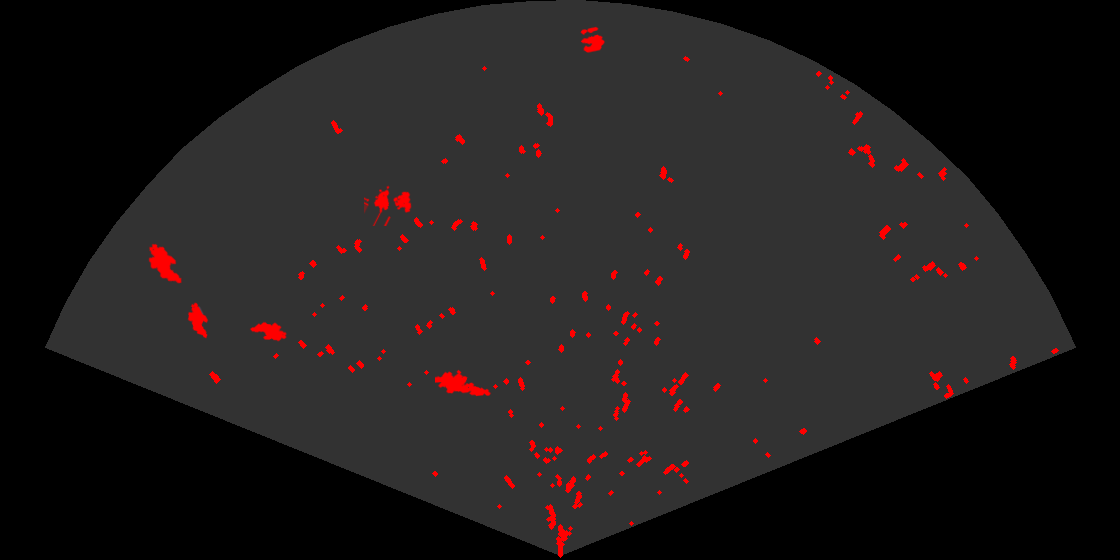AUV: (147, 242, 183, 285), (186, 301, 210, 340), (248, 320, 288, 343)
ball: (579, 25, 606, 54)
cage: (364, 184, 413, 226)
frogman: (435, 368, 492, 398)
